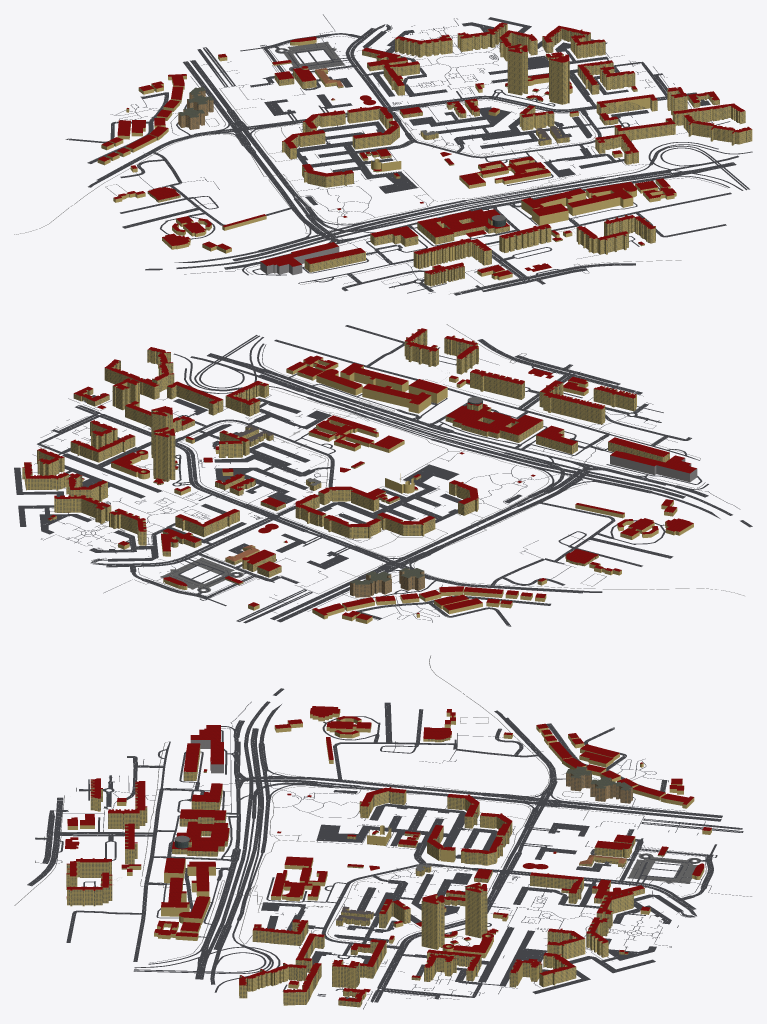
Rendered from osm3d.glb.
3 views of the same model, one above another, from view 1: azimuth 30°, elevation 25°; view 2: azimuth 150°, elevation 25°; view 3: azimuth 270°, elevation 25° (orthographic). The views are drawn at different scales.
Visible parts, largest first — view 1: ASPHALT, Plaster002, RoofingTiles010, Windows, Concrete034, Plaster002.001, Plaster002.002; view 2: ASPHALT, Plaster002, RoofingTiles010, Windows, Concrete034, Plaster002.001, Plaster002.002; view 3: ASPHALT, Plaster002, RoofingTiles010, Windows, Concrete034, Plaster002.001, Windows.001.
Boxes of the visible parts, bbox=[...] form: ASPHALT: bbox=[65, 14, 752, 295]; Plaster002: bbox=[97, 24, 752, 286]; RoofingTiles010: bbox=[98, 22, 751, 276]; Windows: bbox=[148, 25, 751, 285]; Concrete034: bbox=[14, 41, 681, 294]; Plaster002.001: bbox=[178, 87, 213, 129]; Plaster002.002: bbox=[260, 246, 339, 274]; ASPHALT: bbox=[14, 325, 752, 626]; Plaster002: bbox=[22, 329, 693, 623]; RoofingTiles010: bbox=[22, 328, 696, 620]; Windows: bbox=[22, 330, 669, 584]; Concrete034: bbox=[51, 324, 744, 613]; Plaster002.001: bbox=[350, 569, 424, 597]; Plaster002.002: bbox=[610, 455, 697, 482]; ASPHALT: bbox=[27, 688, 751, 1009]; Plaster002: bbox=[66, 707, 711, 1007]; RoofingTiles010: bbox=[65, 706, 711, 1002]; Windows: bbox=[66, 737, 668, 1006]; Concrete034: bbox=[14, 655, 705, 990]; Plaster002.001: bbox=[566, 767, 632, 803]; Windows.001: bbox=[566, 769, 632, 803].
Bounding box in the file's own units: 1462 × 87.59 × 1290.
Materials: 22 (22 with a texture image).
